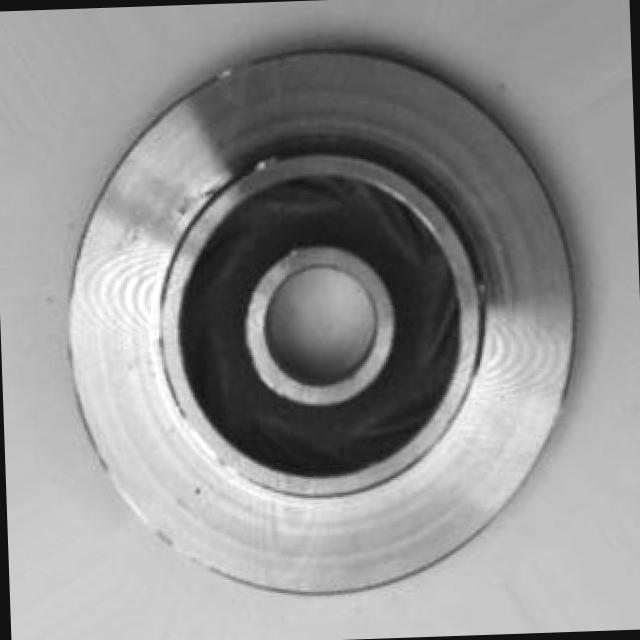Defect: (194, 172, 229, 205)
